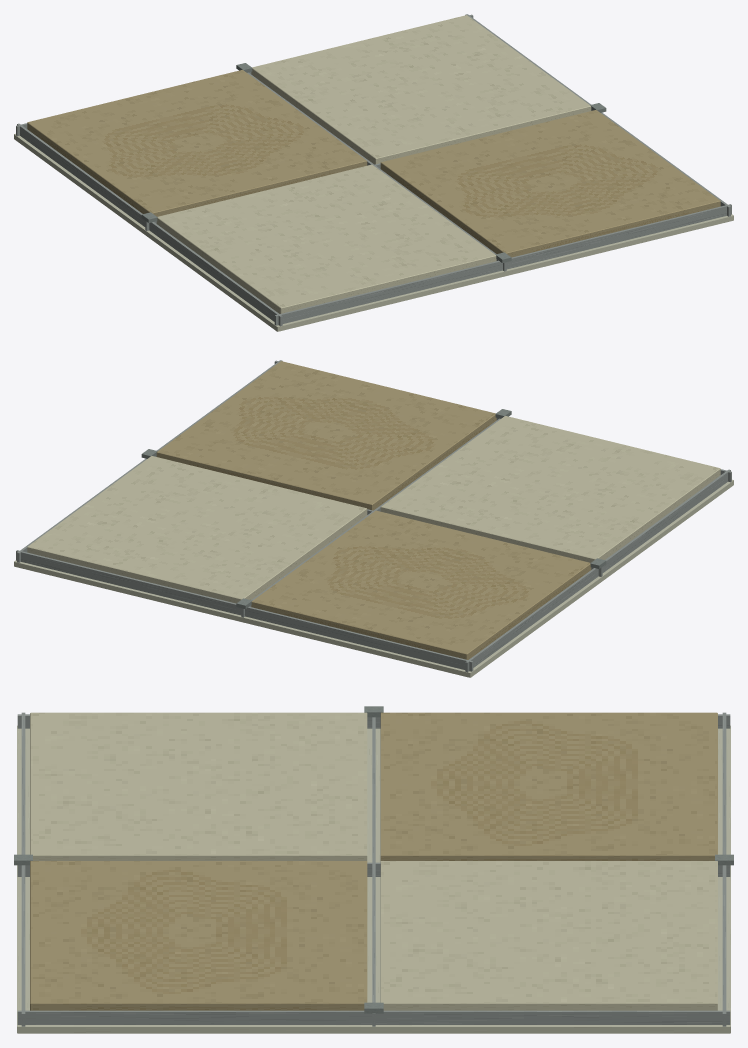
File: suspended_ceiling_stained_tiles.glb
3 views of the same model, one above another, from view 1: azimuth 30°, elevation 25°; view 2: azimuth 150°, elevation 25°; view 3: azimuth 270°, elevation 25° (orthographic). The views are drawn at different scales.
Visible parts, largest first — view 1: suspended_ceiling_stained_tiles; view 2: suspended_ceiling_stained_tiles; view 3: suspended_ceiling_stained_tiles.
Part boxes in pixels (box(x1,y1,x2,y2)): suspended_ceiling_stained_tiles: box(14, 14, 733, 331); suspended_ceiling_stained_tiles: box(14, 360, 733, 677); suspended_ceiling_stained_tiles: box(14, 706, 733, 1033).
Bounding box in the file's own units: 1.2 × 0.0465 × 1.21.
Materials: 5 (5 with a texture image).
